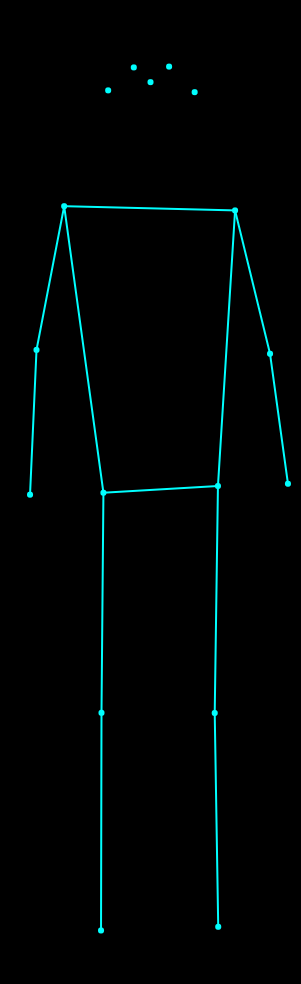mountain: (23, 52, 294, 940)
